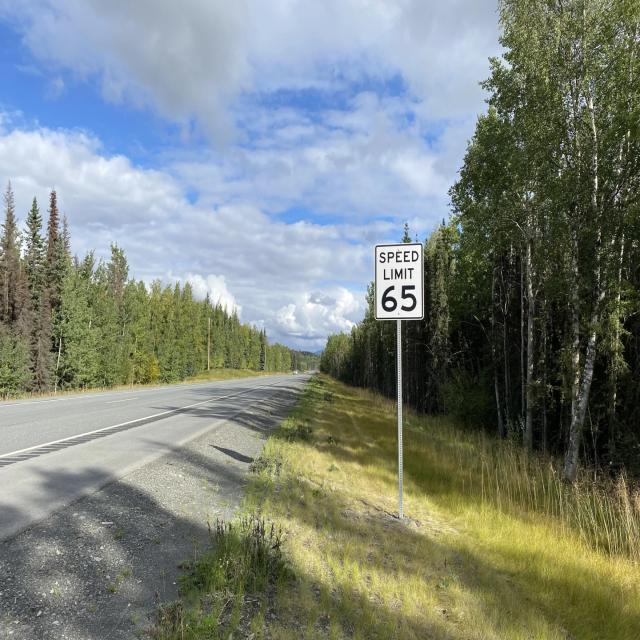speedLimit65: (373, 241, 424, 323)
